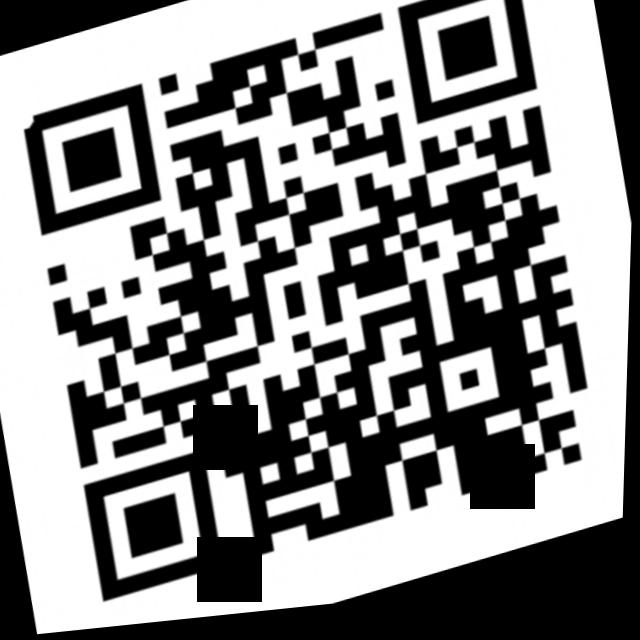QR_CODE: (0, 0, 636, 629)
